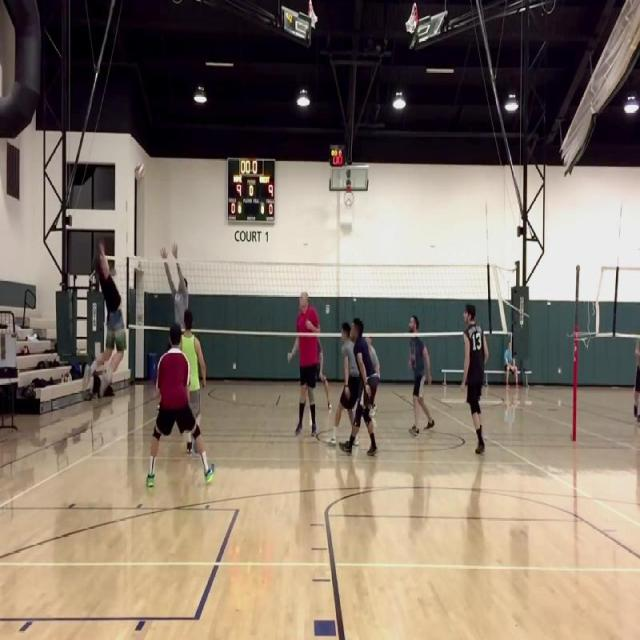volleyball: (134, 163, 145, 180)
